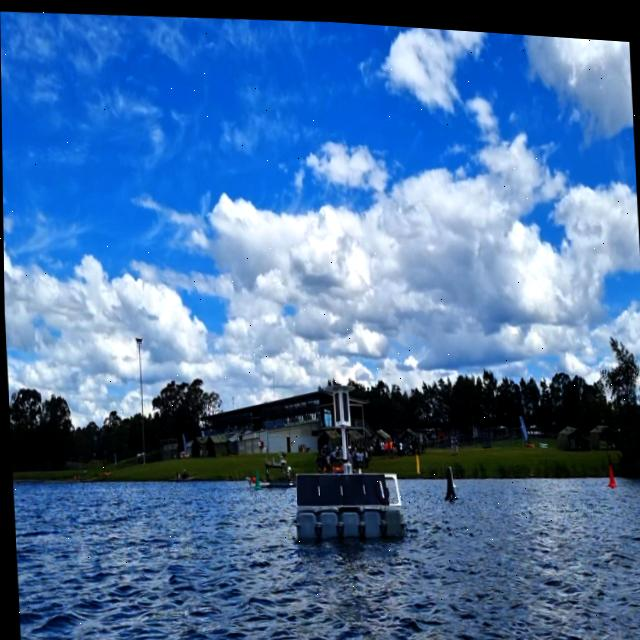led: (332, 386, 348, 420), (340, 386, 349, 420), (332, 386, 340, 419)
